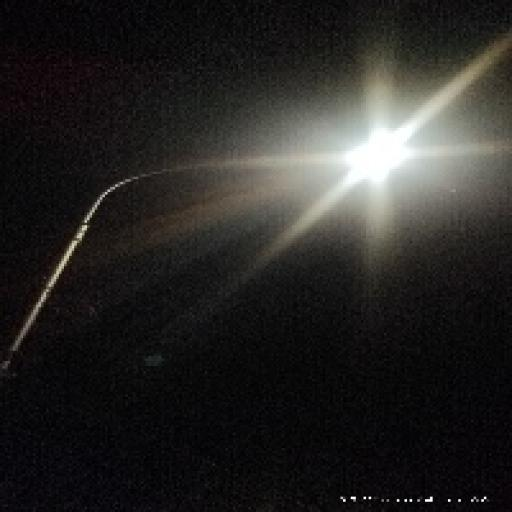Working: (336, 120, 422, 189)
